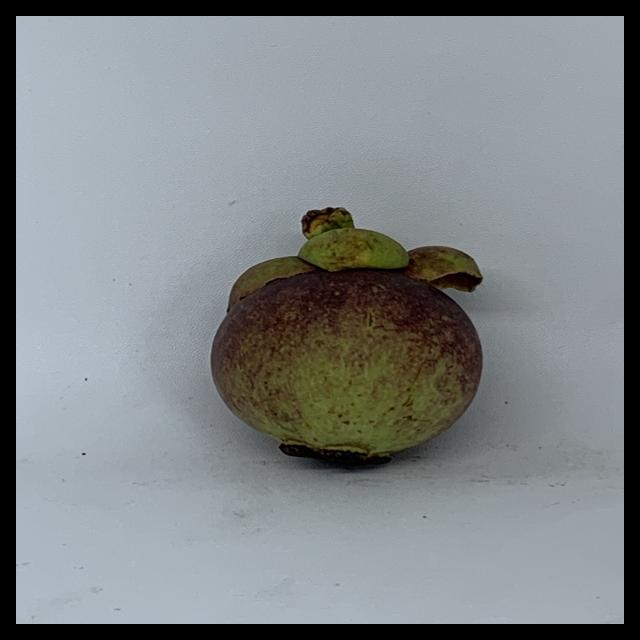mangosteen: (213, 203, 483, 474)
